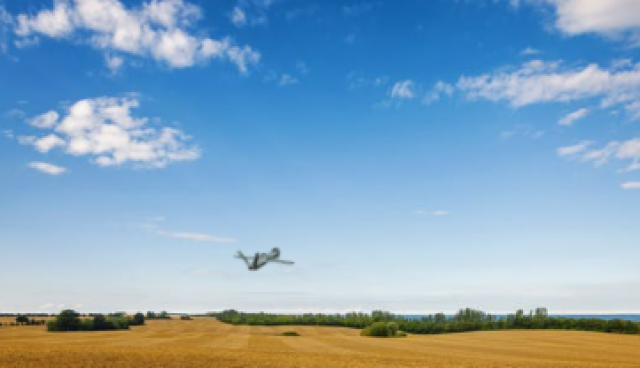military drone: (232, 247, 295, 271)
